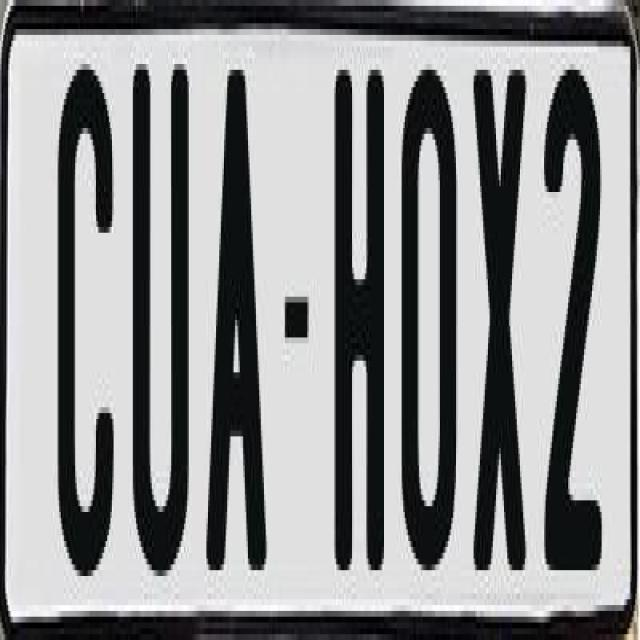0: (398, 52, 461, 564)
2: (541, 70, 608, 606)
A: (203, 70, 266, 576)
C: (52, 64, 116, 611)
H: (334, 64, 392, 594)
U: (132, 58, 190, 570)
X: (474, 64, 534, 594)
